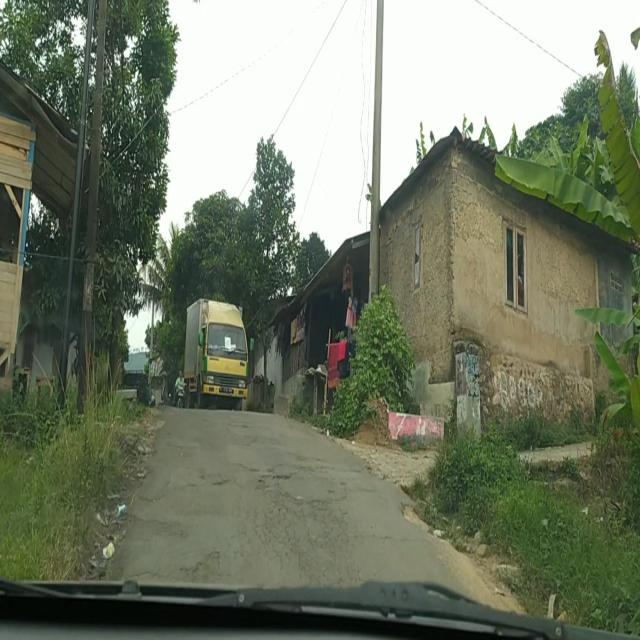Drain Hole: (243, 486, 357, 582)
